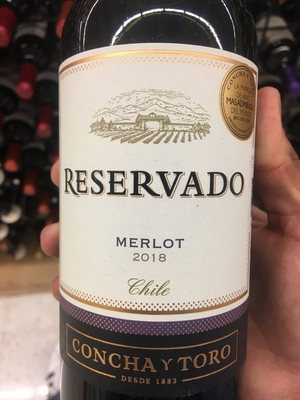reservado merlot: (49, 17, 279, 400)
